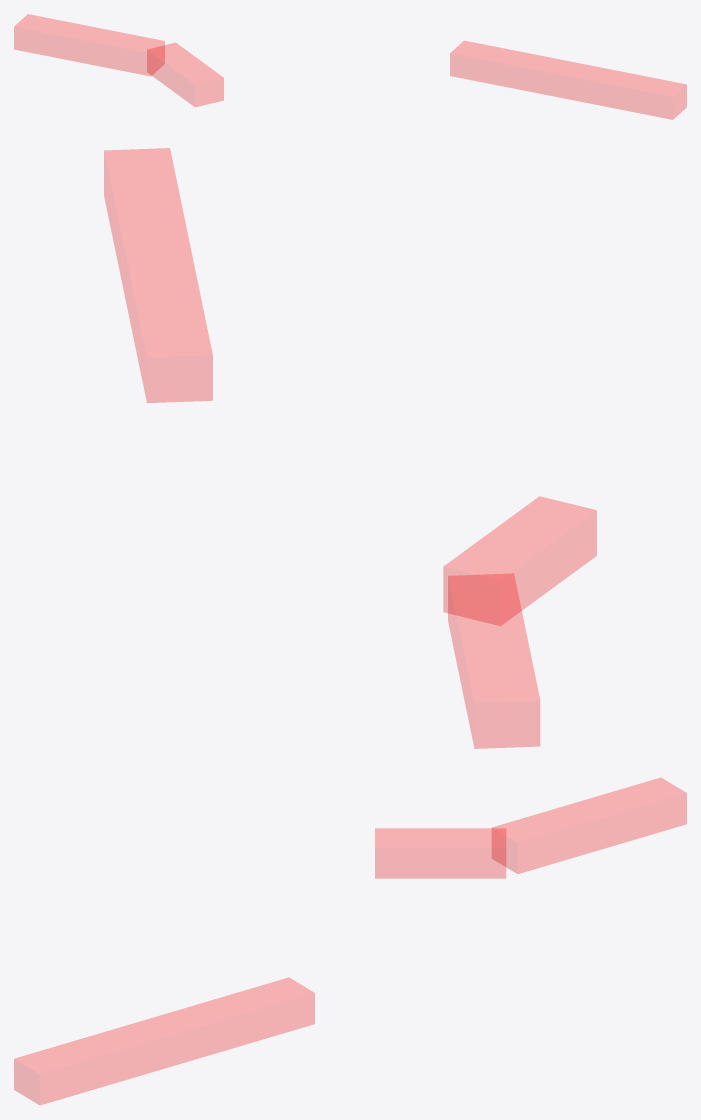
The model's file is s05a_td2-obstacles.glb.
3 renders of one model, top to bottom at view 1: azimuth 30°, elevation 25°; view 2: azimuth 150°, elevation 25°; view 3: azimuth 270°, elevation 25°, orthographic. The views are drawn at different scales.
Visible parts, largest first — view 1: boulder-colonly (×3); view 2: boulder-colonly (×3); view 3: boulder-colonly (×3).
Part boxes in pixels (box(x1,y1,x2,y2)): boulder-colonly (×3): box(14, 14, 686, 119); boulder-colonly (×3): box(104, 148, 596, 748); boulder-colonly (×3): box(14, 778, 686, 1104).
Size of the model in its own units: 32.64 by 1.6 by 31.26.
